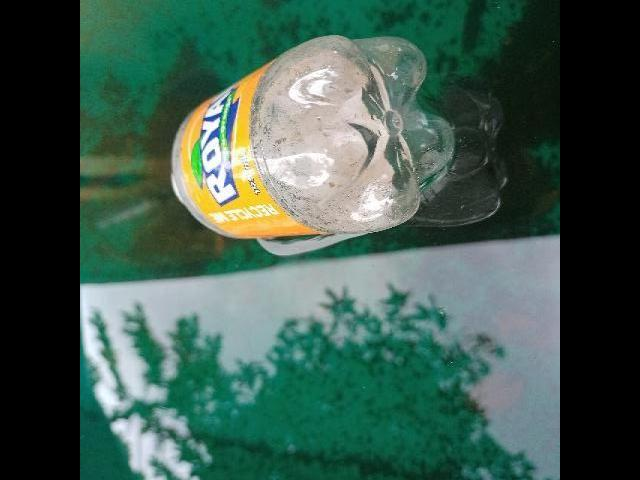Bottle: (162, 27, 460, 249)
